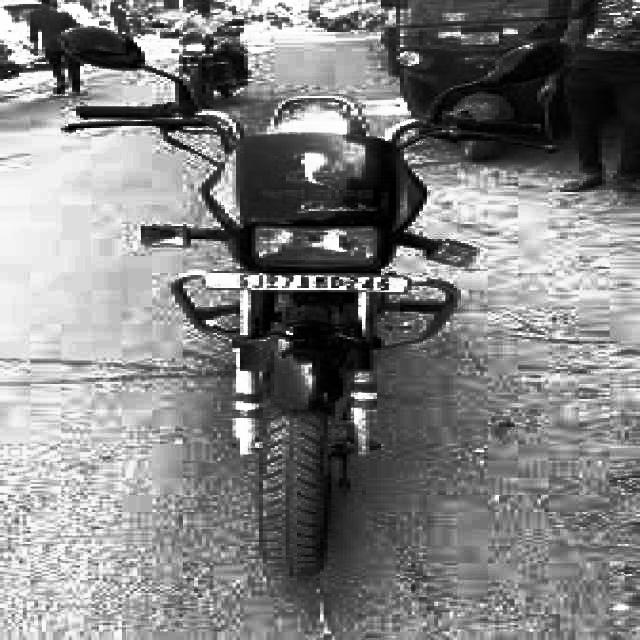Bike: (63, 31, 571, 578)
